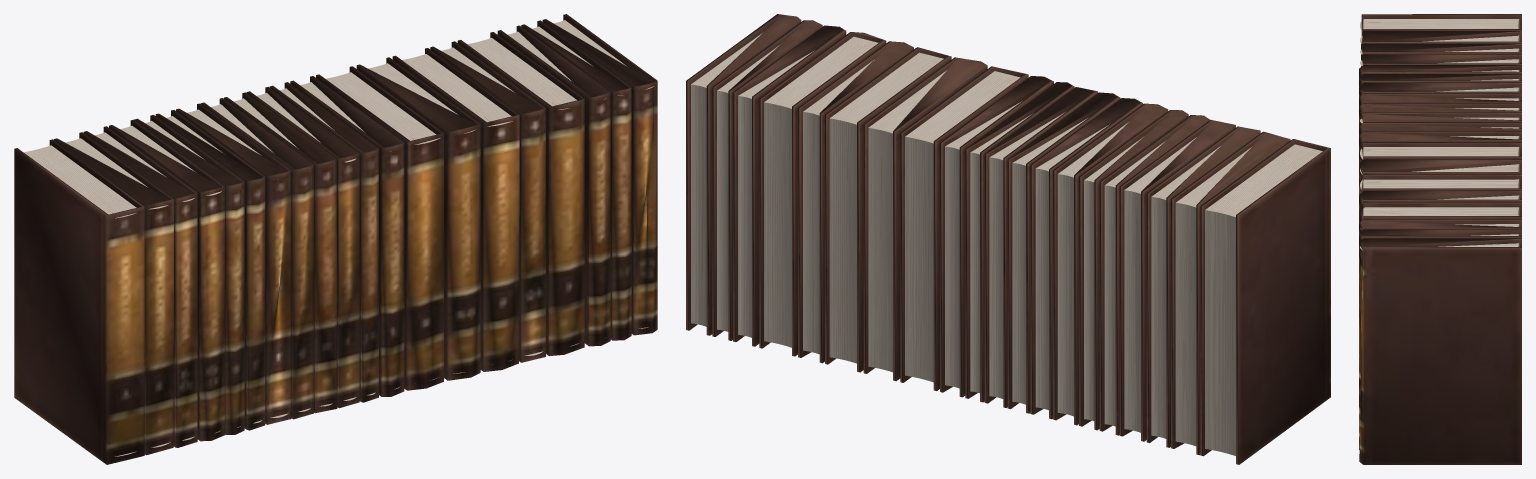
Rendered from book_encyclopedia_set_01.glb.
3 views of the same model, side by side, from view 1: azimuth 30°, elevation 25°; view 2: azimuth 150°, elevation 25°; view 3: azimuth 270°, elevation 25° (orthographic). The views are drawn at different scales.
Parts seen in each view (by area): view 1: book_encyclopedia_set_01_book01; view 2: book_encyclopedia_set_01_book01; view 3: book_encyclopedia_set_01_book01.
Boxes of the visible parts, x1,y1,x2,y2 form: book_encyclopedia_set_01_book01: (14, 14, 657, 464); book_encyclopedia_set_01_book01: (686, 14, 1330, 464); book_encyclopedia_set_01_book01: (1359, 14, 1521, 464).
Size of the model in its own units: 0.5513 by 0.2374 by 0.1619.
2 materials, 2 textured.
